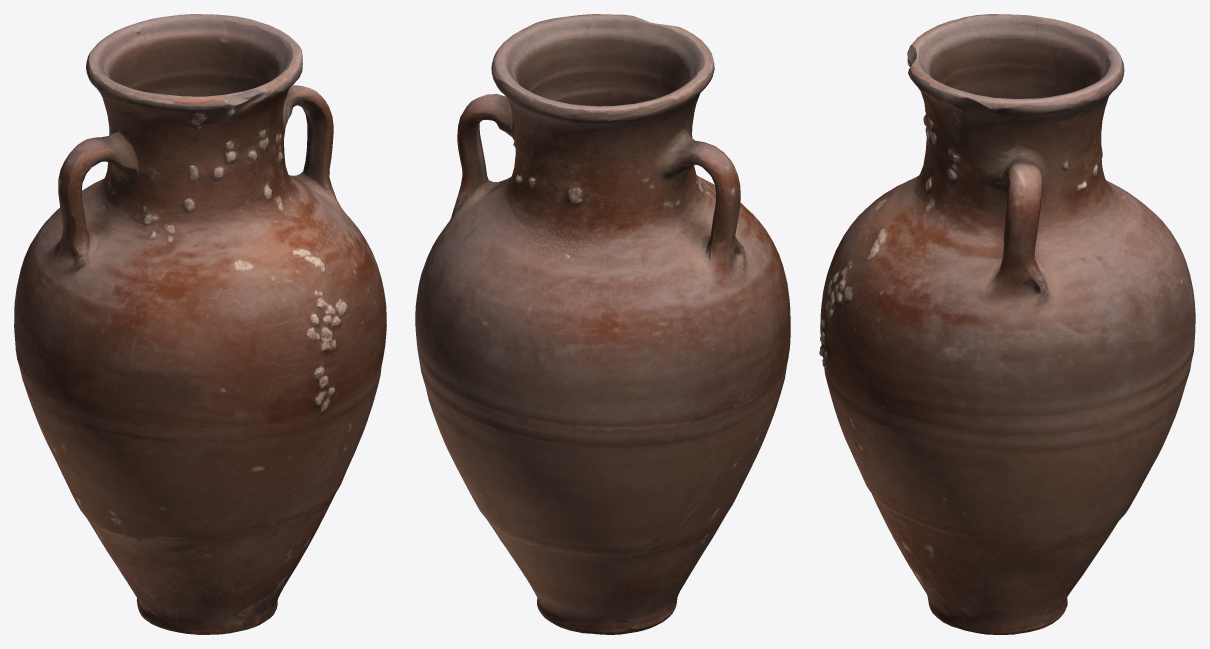
Rendered from amphora.glb.
3 renders of one model, left to right at view 1: azimuth 30°, elevation 25°; view 2: azimuth 150°, elevation 25°; view 3: azimuth 270°, elevation 25°, orthographic.
Size of the model in its own units: 0.6114 by 0.999 by 0.6179.
Materials: 1 (1 with a texture image).
